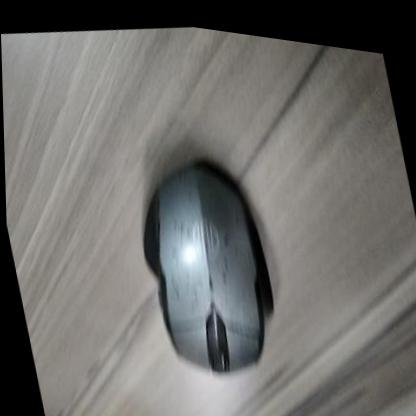mouserotation: (123, 139, 287, 389)
